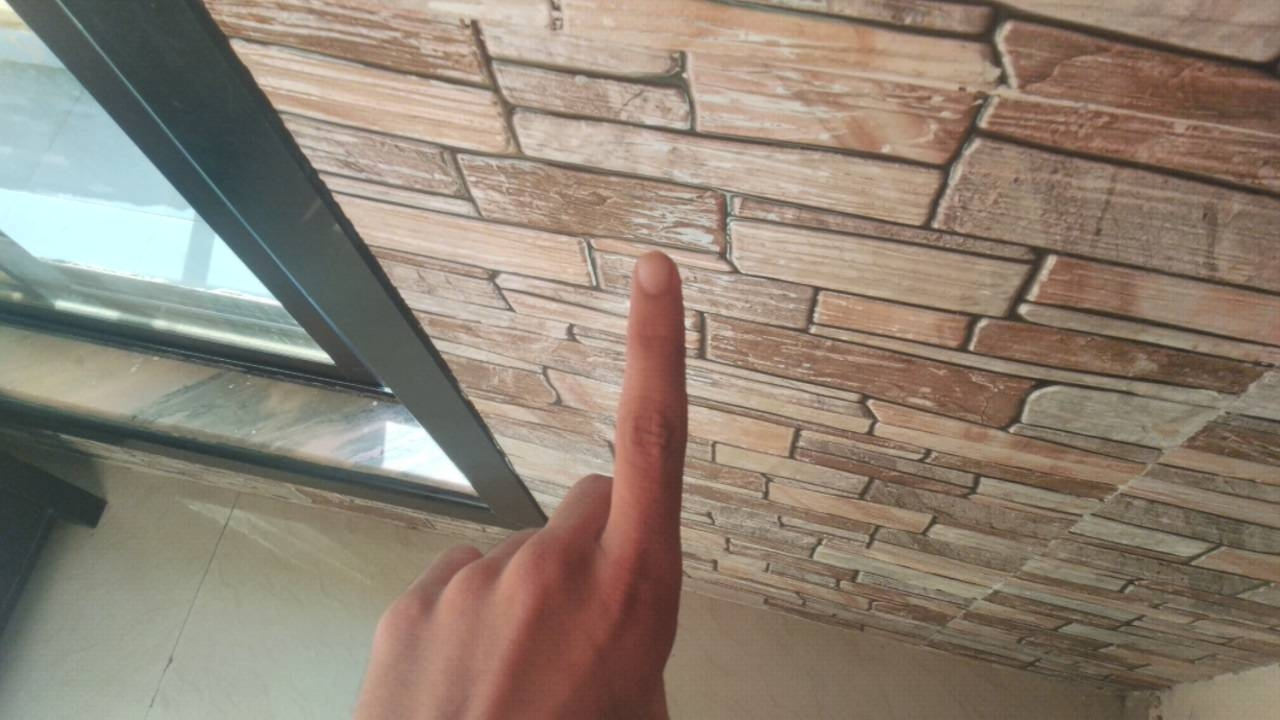fingertip: (624, 242, 684, 304)
